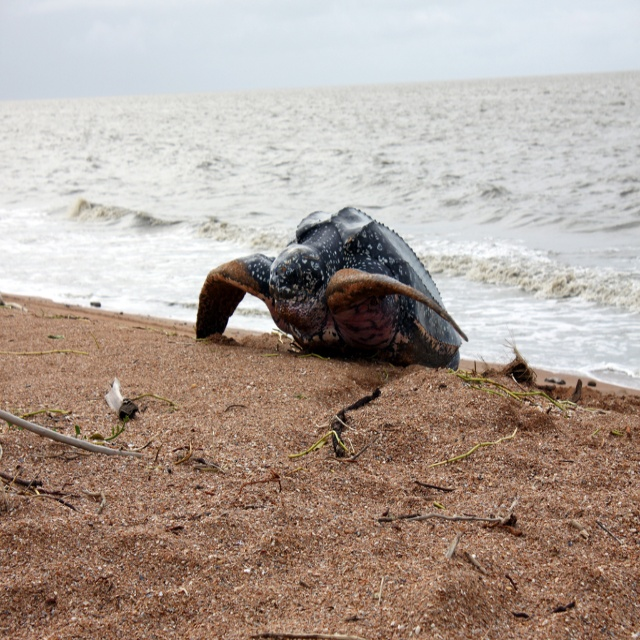Sea turtle: (195, 205, 470, 372)
